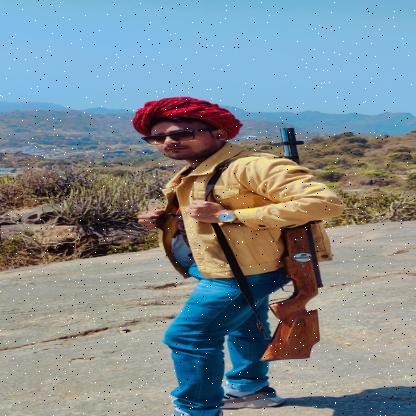rifle: (258, 127, 326, 363)
